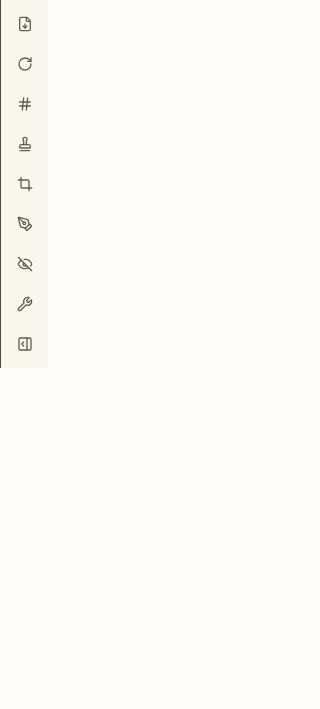
Test case: Suite 12 — PDF Editor: Tool Panels › TP-01q — an unreachable target says so before anything runs
Click the button titled "Compress PDF": x=24, y=24 x1=4 y1=4 x2=44 y2=44
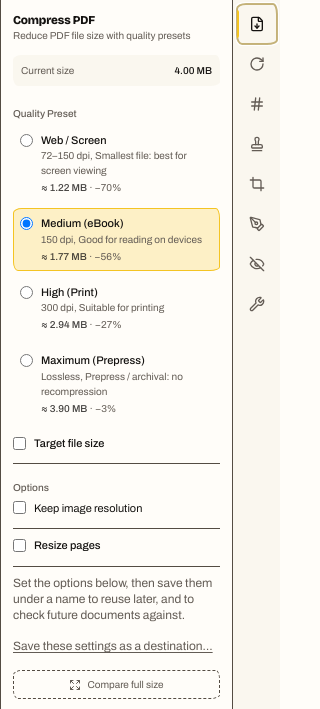
Click the checkbox labelled "Target file size": x=20, y=443 x1=13 y1=437 x2=26 y2=450
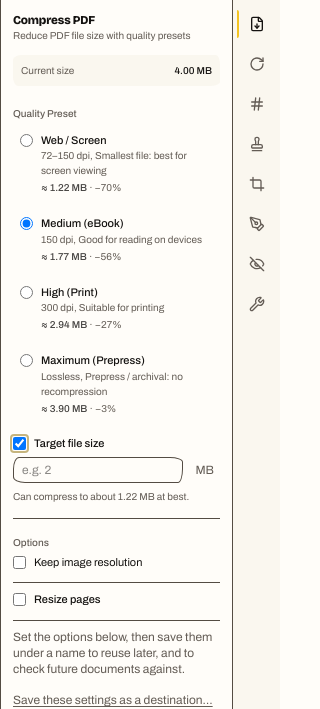
1 MB, against a ~1.2 MB floor. KB is not offered on this document at all.
In the number field titled "Target file size": x=98, y=470 x1=13 y1=457 x2=184 y2=483, type "1"
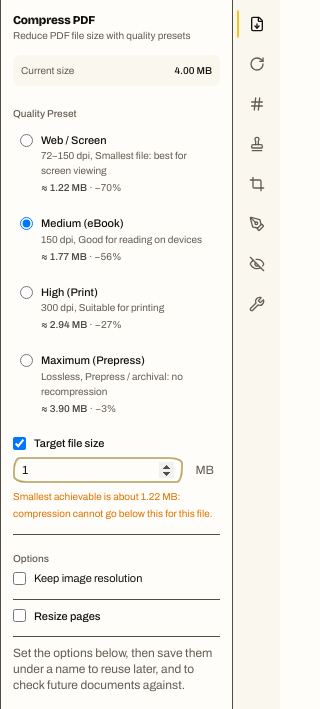
Now the text "Smallest achievable" is shown, box x1=13 y1=491 x2=212 y2=519
